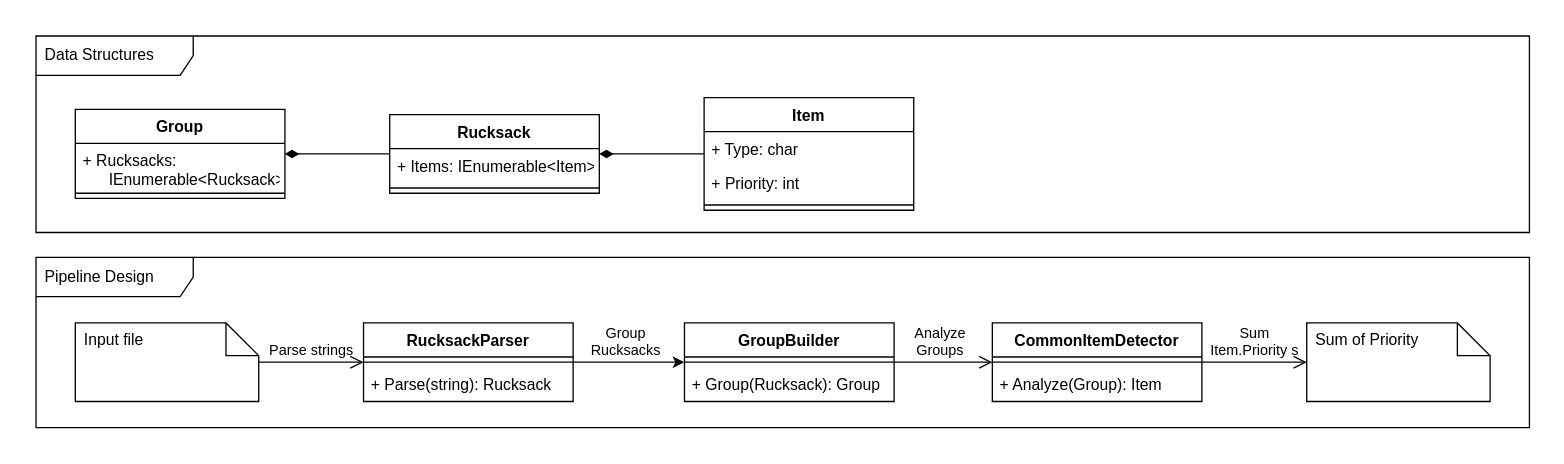
The diagram is 1564 pixels wide and 464 high, and some of its shapes have lost their labels. Each missing label, with the centre of its shape:
"= IEnumerable<string>" belongs at point 166,362.
"= int" belongs at point 1397,362.
